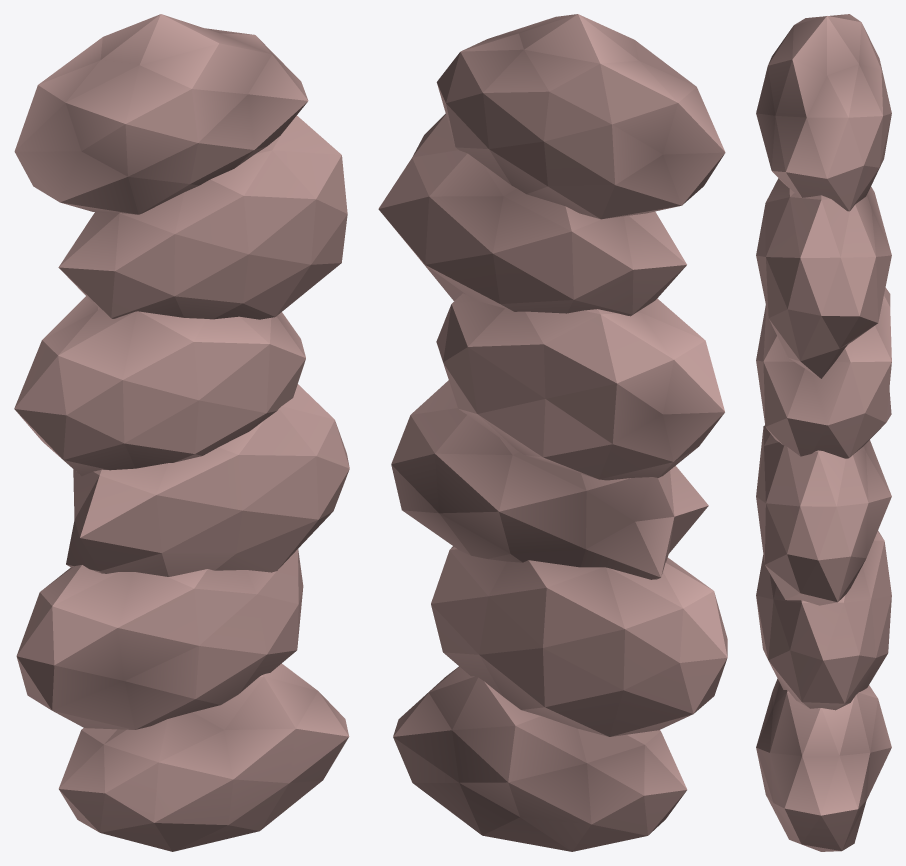
File: flesh-heap.glb
The picture shows the model from 3 angles, left to right: view 1: azimuth 30°, elevation 25°; view 2: azimuth 150°, elevation 25°; view 3: azimuth 270°, elevation 25°; orthographic projection. The views are drawn at different scales.
Visible parts, largest first — view 1: body; view 2: body; view 3: body.
Part boxes in pixels (bbox=[...]): body: bbox=[14, 14, 349, 851]; body: bbox=[378, 14, 727, 851]; body: bbox=[756, 14, 891, 851].
Size of the model in its own units: 0.7999 by 1.95 by 0.2999.
